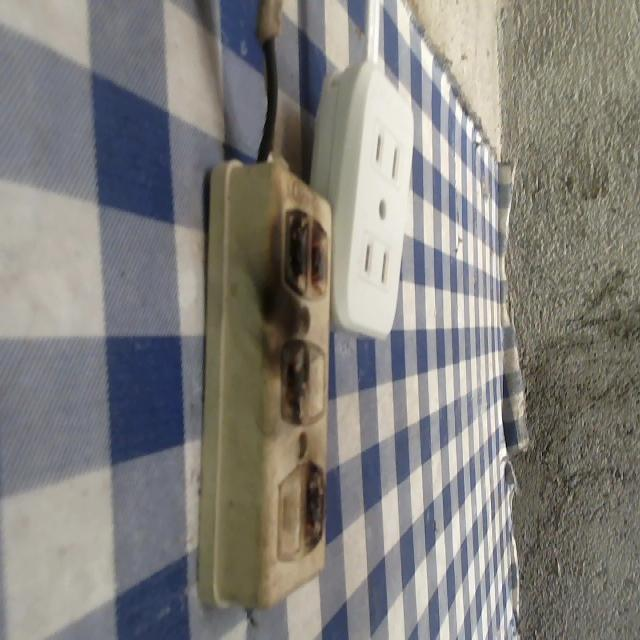-: (278, 205, 333, 298), (279, 342, 313, 438), (301, 456, 328, 556)
